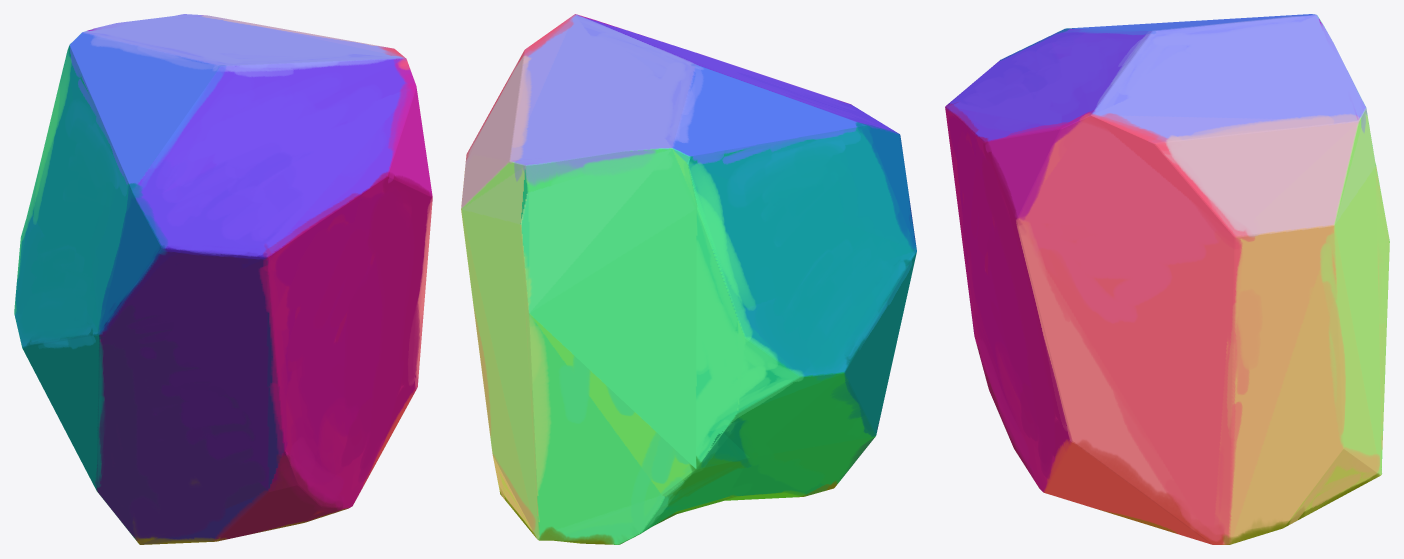
File: rock_round_0.glb
The picture shows the model from 3 angles, left to right: view 1: azimuth 30°, elevation 25°; view 2: azimuth 150°, elevation 25°; view 3: azimuth 270°, elevation 25°; orthographic projection. The views are drawn at different scales.
Visible parts, largest first — view 1: rock_round_0; view 2: rock_round_0; view 3: rock_round_0.
Part boxes in pixels (bbox=[...]): rock_round_0: bbox=[14, 14, 432, 544]; rock_round_0: bbox=[461, 14, 916, 544]; rock_round_0: bbox=[945, 14, 1389, 544].
Size of the model in its own units: 1.95 by 2.16 by 2.01.
Materials: 1 (1 with a texture image).
